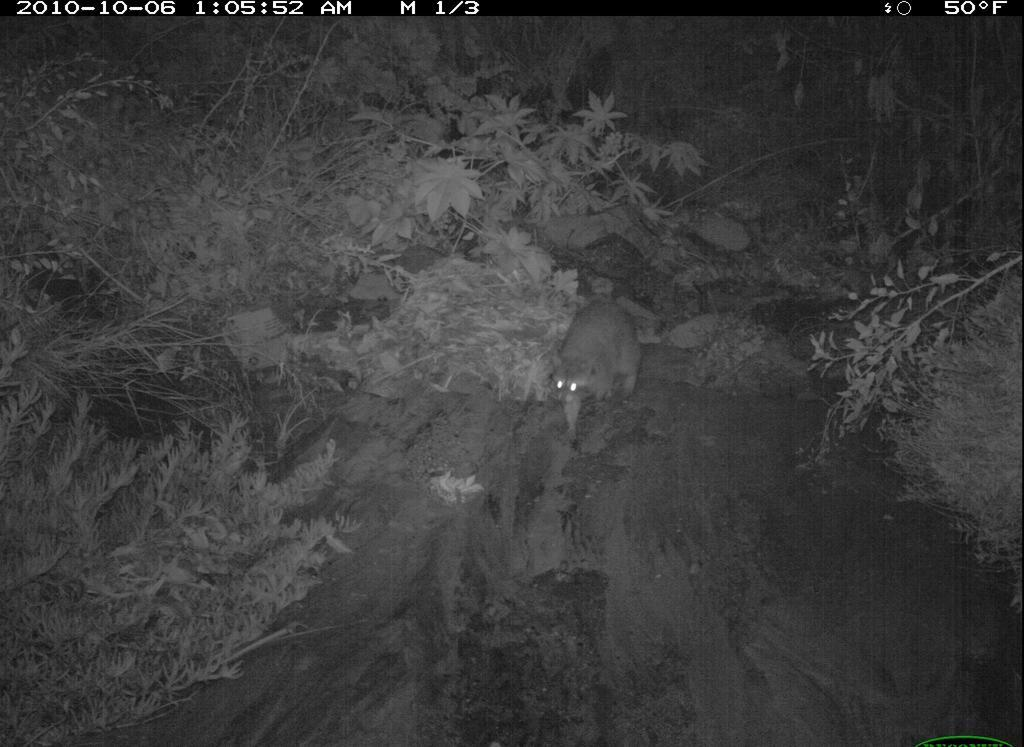raccoon: (543, 297, 647, 455)
